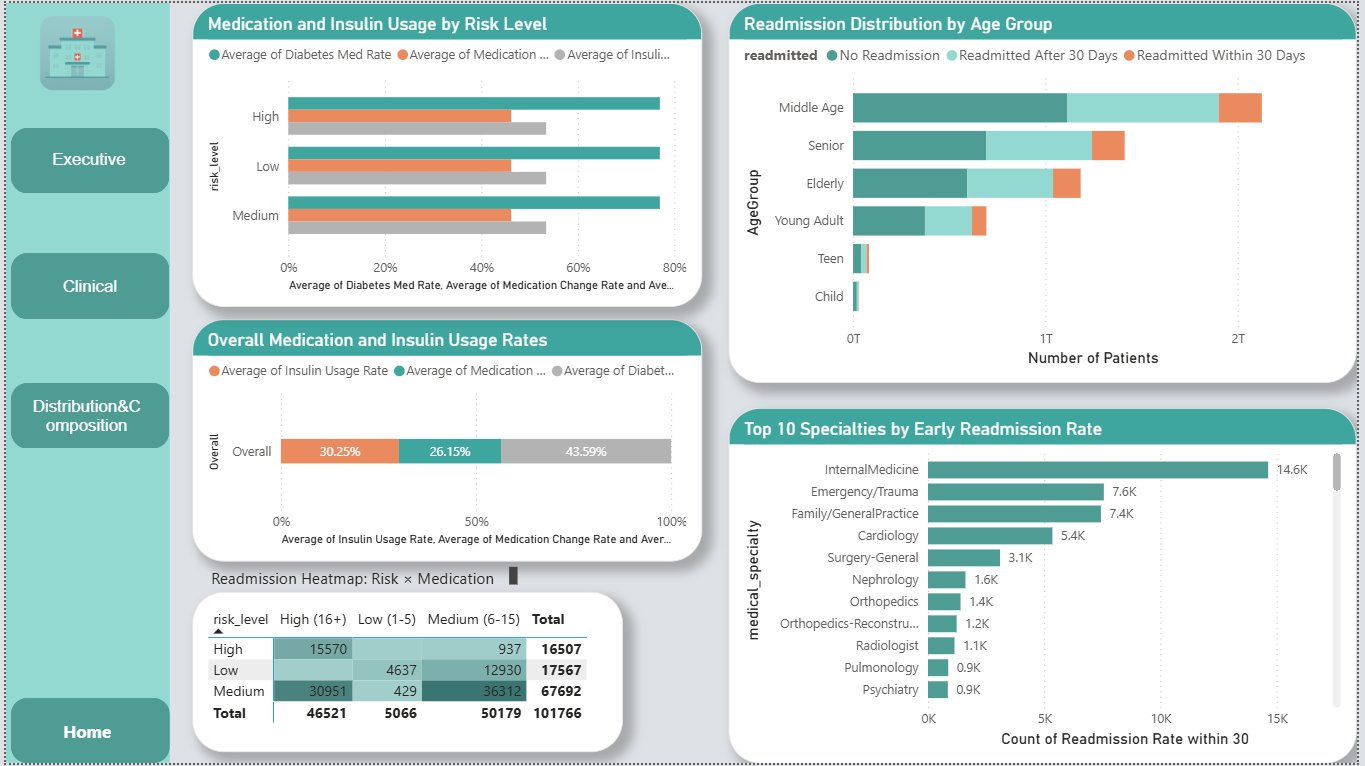

The dashboard page shown, as its layout file describes it:
{"tool":"powerbi","page":{"name":" Readmission & Medication Analysis","canvas":[1280,720],"ordinal":3},"visuals":[{"type":"shape","box":[0,0,155.3,719.9],"z":0},{"type":"barChart","title":"Readmission Distribution by Age Group","fields":{"Category":["diabetic_data_cleaned4.AgeGroup"],"Y":["Sum(diabetic_data_cleaned4.patient_nbr)"],"Series":["diabetic_data_cleaned4.readmitted"]},"box":[684.7,0,595.3,360],"z":1000},{"type":"hundredPercentStackedBarChart","title":"Overall Medication and Insulin Usage Rates  ","fields":{"Category":["diabetic_data_cleaned4.Overall"],"Y":["Avg(diabetic_data_cleaned4.Insulin Usage Rate)","Avg(diabetic_data_cleaned4.Medication Change Rate)","Avg(diabetic_data_cleaned4.Diabetes Med Rate)"]},"box":[176.5,300,483.5,229.4],"z":2000},{"type":"pivotTable","fields":{"Rows":["diabetic_data_cleaned4.risk_level"],"Values":["Count(diabetic_data_cleaned4.encounter_id)"],"Columns":["diabetic_data_cleaned4.Med Load Category"]},"box":[176.5,557.6,408.2,151.8],"z":3000},{"type":"clusteredBarChart","title":"Top 10 Specialties by Early Readmission Rate","fields":{"Category":["diabetic_data_cleaned4.medical_specialty"],"Y":["CountNonNull(diabetic_data_cleaned4.Readmission Rate within 30)"]},"box":[684.7,383.5,595.3,336.5],"z":4000},{"type":"shape","box":[4.5,359.6,149.9,62],"z":5000},{"type":"actionButton","box":[19.2,368.6,115,46.2],"z":6000},{"type":"shape","box":[4.7,237.1,149.9,62.8],"z":7000},{"type":"shape","box":[4.7,118.1,149.9,61.9],"z":8000},{"type":"actionButton","box":[28.1,128.4,100.3,40.3],"z":9000},{"type":"actionButton","box":[29.4,248.7,99.7,39.9],"z":10000},{"type":"shape","box":[4.7,658.4,150.4,61.6],"z":11000},{"type":"actionButton","box":[27.2,669.1,99.5,40.3],"z":12000},{"type":"clusteredBarChart","title":"Medication and Insulin Usage by Risk Level","fields":{"Category":["diabetic_data_cleaned4.risk_level"],"Y":["Avg(diabetic_data_cleaned4.Diabetes Med Rate)","Avg(diabetic_data_cleaned4.Medication Change Rate)","Avg(diabetic_data_cleaned4.Insulin Usage Rate)"]},"box":[176.5,0,483.5,288.2],"z":13000},{"type":"textbox","box":[189.4,529.4,300,28.2],"z":13001},{"type":"image","box":[18.8,0,97.6,96.5],"z":13002}]}

Visuals, with their boxes in screenshot pixels (x1, y1, x2, y2), scaled from the page's 1280x720 canvas onto the 1365x766 screenshot:
shape: {"left": 0, "top": 0, "right": 166, "bottom": 765}
"Readmission Distribution by Age Group" barChart: {"left": 730, "top": 0, "right": 1364, "bottom": 383}
"Overall Medication and Insulin Usage Rates  " hundredPercentStackedBarChart: {"left": 188, "top": 319, "right": 704, "bottom": 563}
pivotTable - diabetic_data_cleaned4.risk_level x Count(diabetic_data_cleaned4.encounter_id): {"left": 188, "top": 593, "right": 624, "bottom": 755}
"Top 10 Specialties by Early Readmission Rate" clusteredBarChart: {"left": 730, "top": 408, "right": 1364, "bottom": 765}
shape: {"left": 5, "top": 383, "right": 165, "bottom": 449}
actionButton: {"left": 20, "top": 392, "right": 143, "bottom": 441}
shape: {"left": 5, "top": 252, "right": 165, "bottom": 319}
shape: {"left": 5, "top": 126, "right": 165, "bottom": 192}
actionButton: {"left": 30, "top": 137, "right": 137, "bottom": 179}
actionButton: {"left": 31, "top": 265, "right": 138, "bottom": 307}
shape: {"left": 5, "top": 700, "right": 165, "bottom": 765}
actionButton: {"left": 29, "top": 712, "right": 135, "bottom": 755}
"Medication and Insulin Usage by Risk Level" clusteredBarChart: {"left": 188, "top": 0, "right": 704, "bottom": 307}
textbox: {"left": 202, "top": 563, "right": 522, "bottom": 593}
image: {"left": 20, "top": 0, "right": 124, "bottom": 103}
